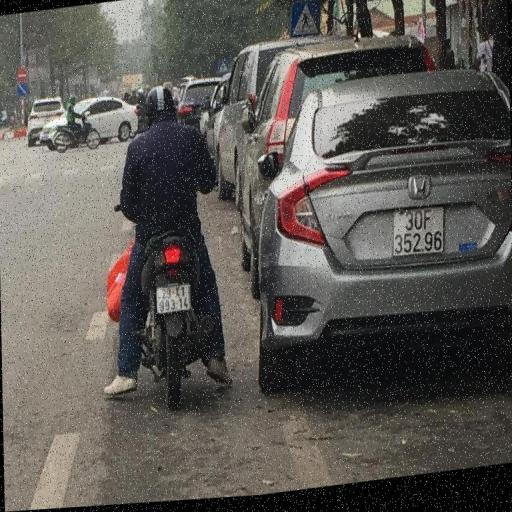bike: (99, 77, 235, 421)
numberplate: (392, 210, 445, 265), (156, 285, 192, 317)
with helmet: (145, 87, 175, 121)
